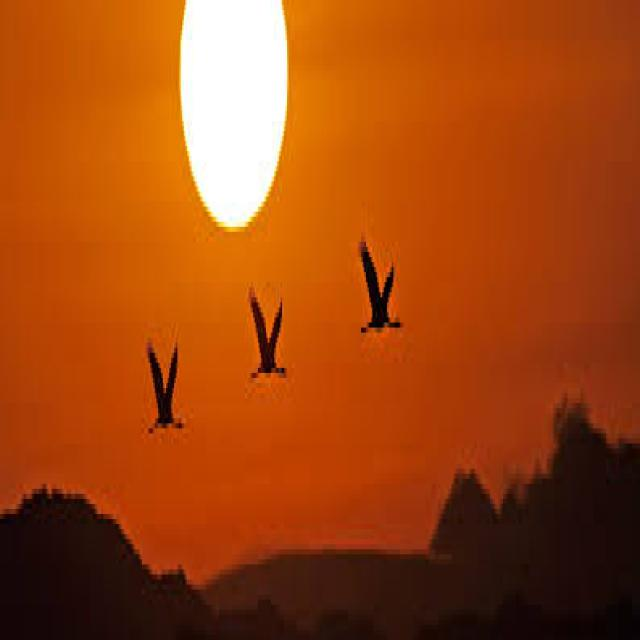bird: (349, 211, 411, 339), (143, 296, 189, 451), (245, 265, 292, 413)
